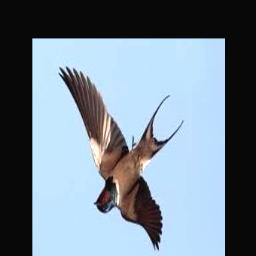Swallow: (58, 68, 183, 252)
